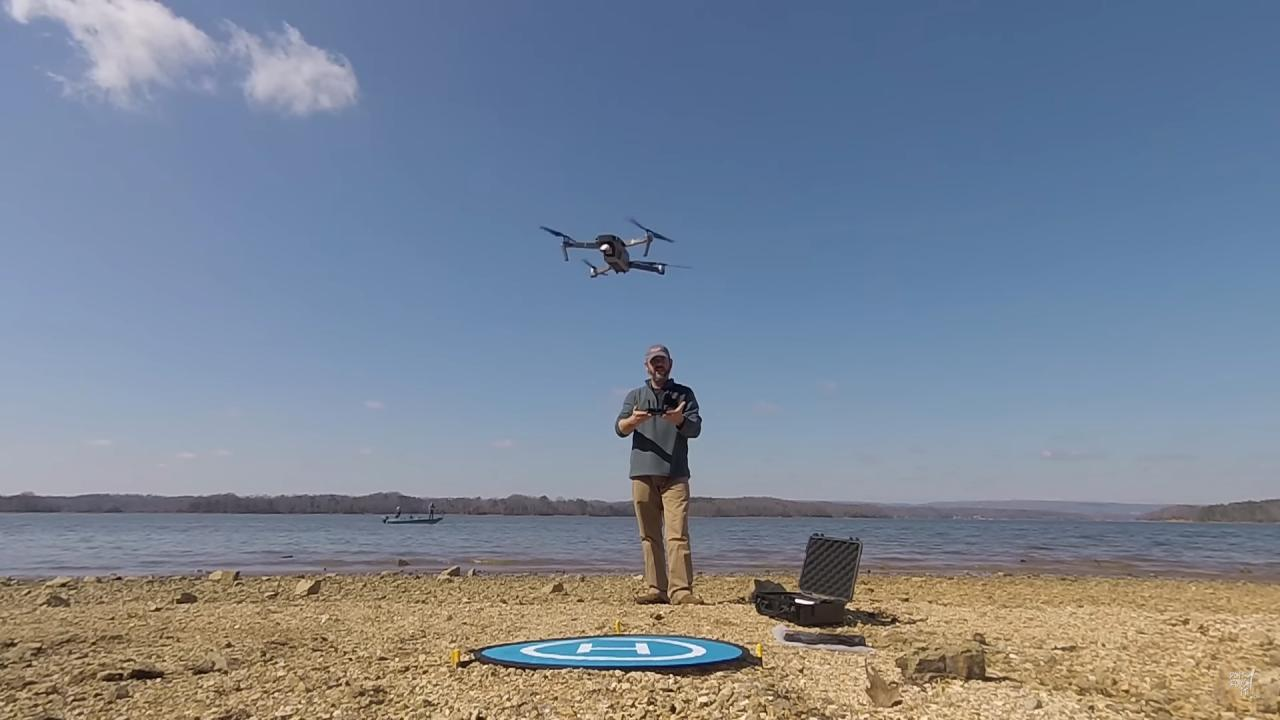Drone: (529, 206, 703, 294)
